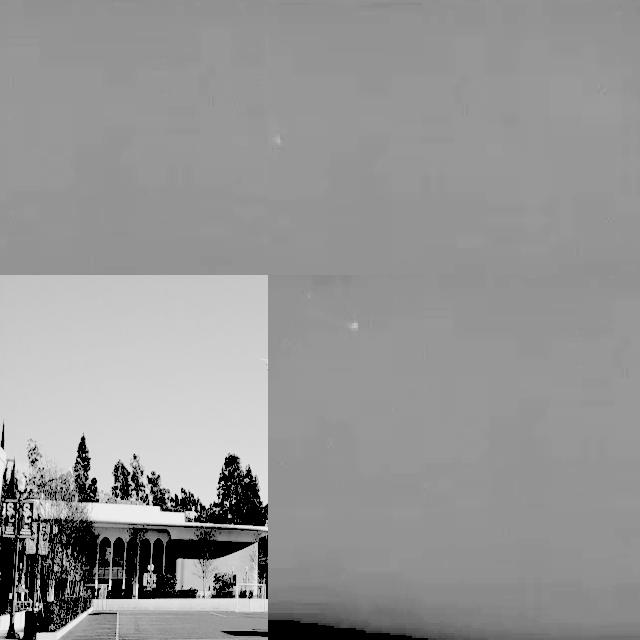0: (268, 122, 296, 160), (343, 312, 367, 339)
drone: (262, 352, 268, 383)
